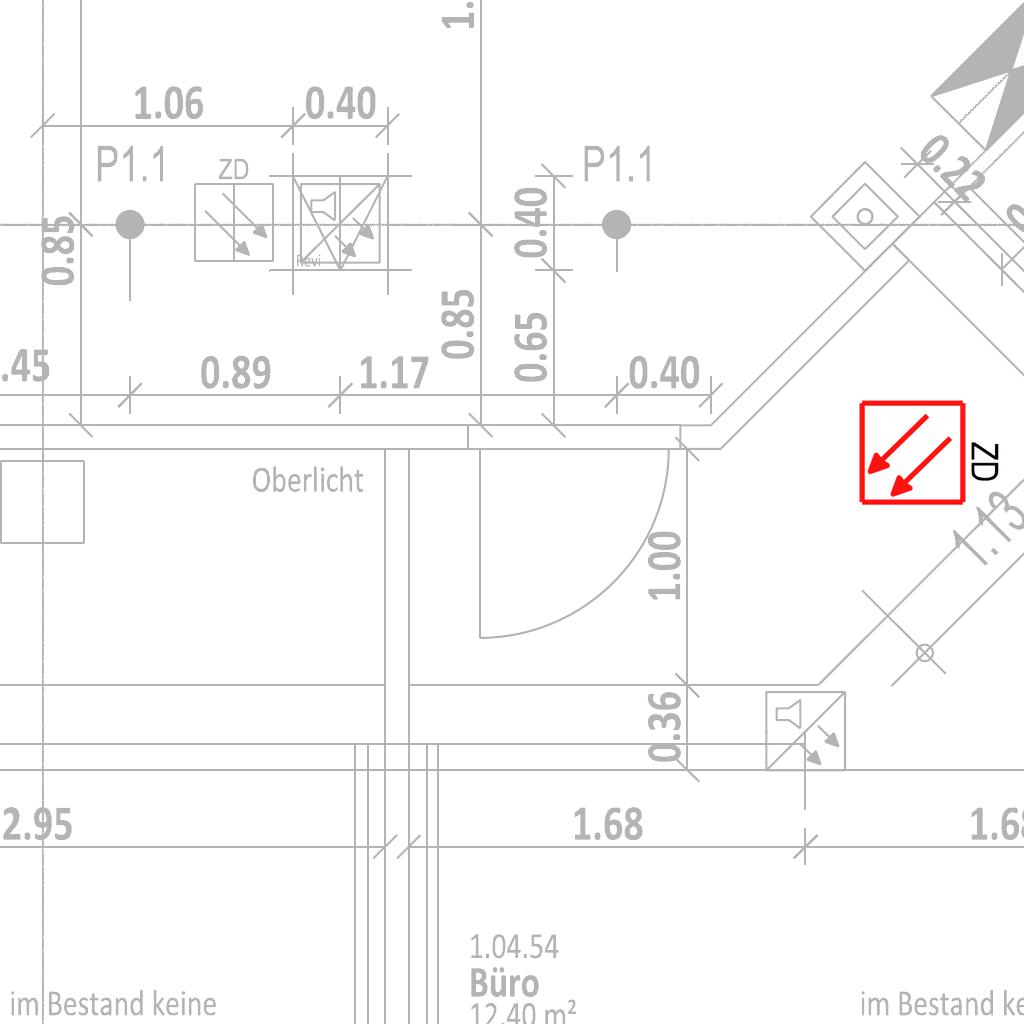ZD_Melder_in_Zwischendecke_mit_Revisionsoeffnung_mind_40_x_40_cm: (857, 394, 1006, 508)
